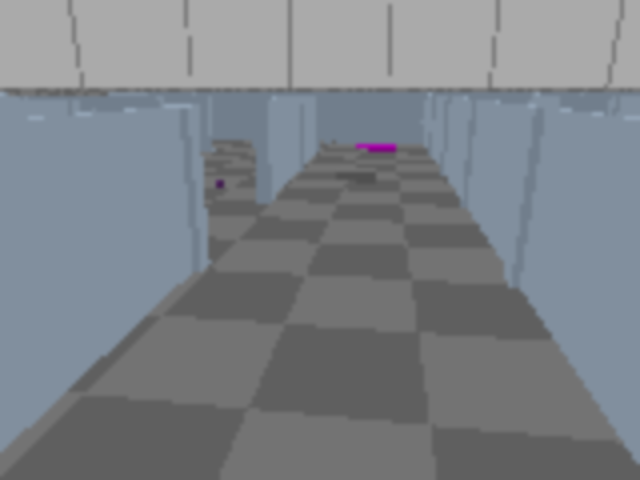obstacle: (336, 166, 377, 182)
